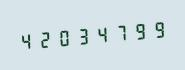four: (93, 19, 111, 48), (17, 26, 35, 54)
nine: (150, 14, 168, 43), (131, 16, 149, 44)
seven: (112, 18, 130, 46)
three: (74, 21, 92, 49)
two: (36, 24, 54, 53)
zero: (55, 23, 73, 51)
